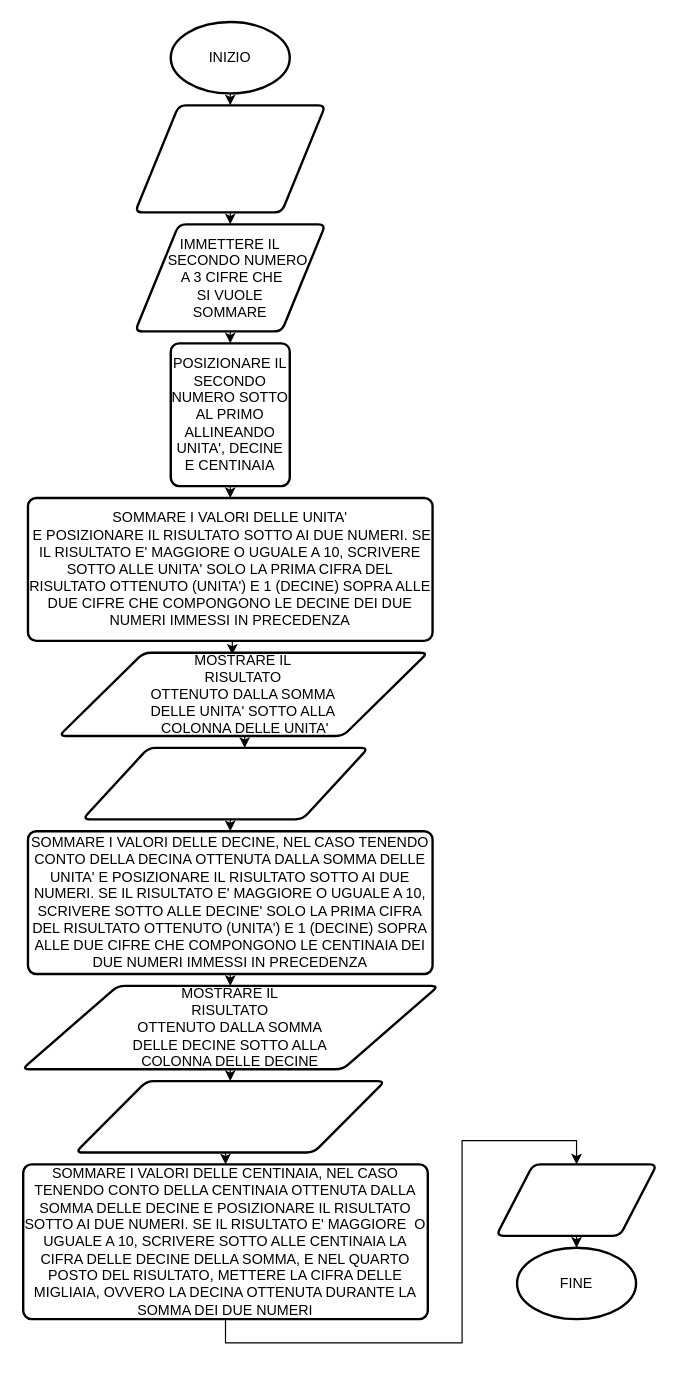
Some shapes in this 678 by 1373 pixel diagram are drawn without their labels. The shapes that lost their labels are listed below. From the top down, each one's centre as x and y in pixels, then its label:
At pixel 229 158: "IMMETTERE IL PRIMO NUMERO A 3 CIFRE CHE SI VUOLE SOMMARE".
At pixel 225 783: "VISUALIZZARE IL RIPORTO EFFETTUATO DURANTE LA SOMMA SULLE DECINE".
At pixel 230 1116: "VISUALIZZARE IL RIPORTO EFFETTUATO DURANTE LA SOMMA SULLE CENTINAIA".
At pixel 575 1199: "MOSTRARE IL RISULTATO OTTENUTO".
